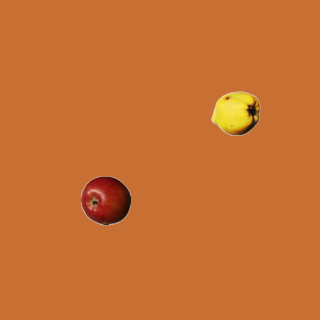Apple Braeburn: (80, 175, 130, 225)
Quince: (210, 88, 260, 138)
